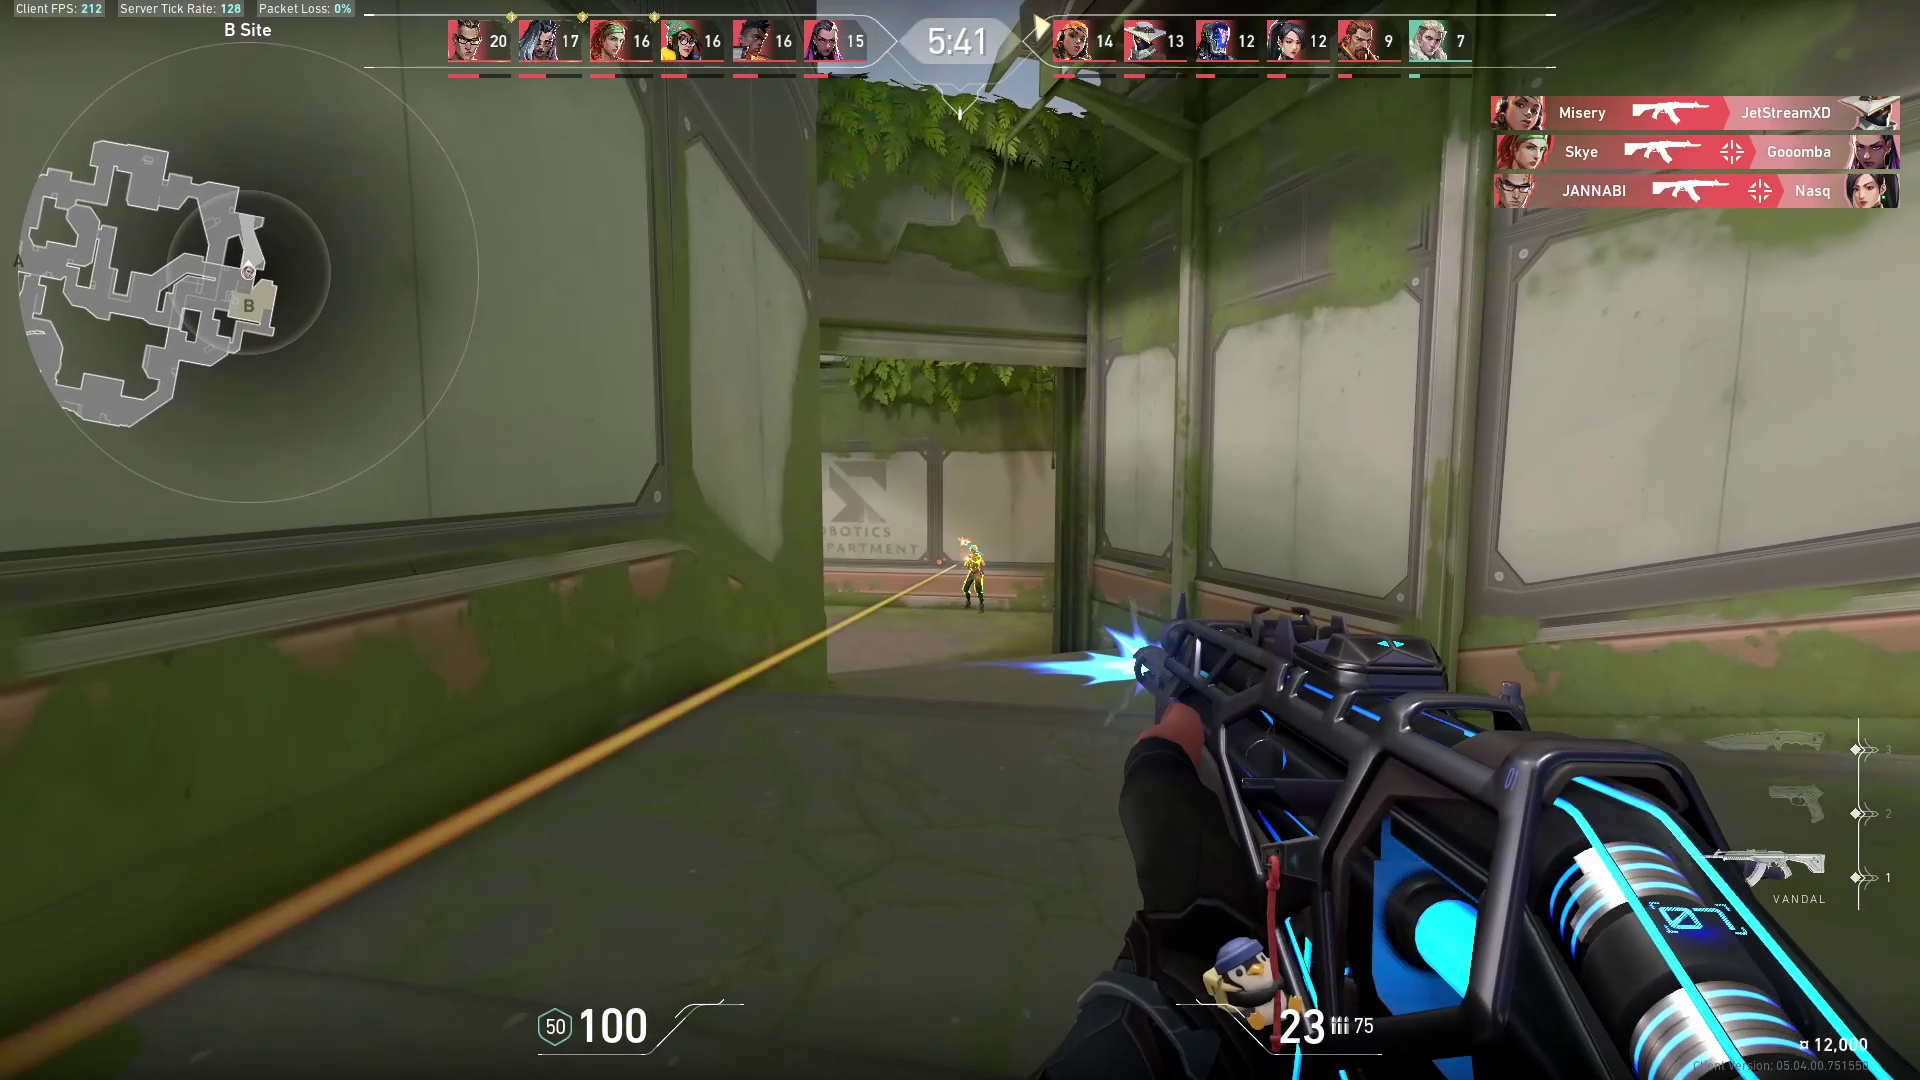enemy_body: (961, 556, 988, 615)
enemy_head: (968, 543, 980, 556)
